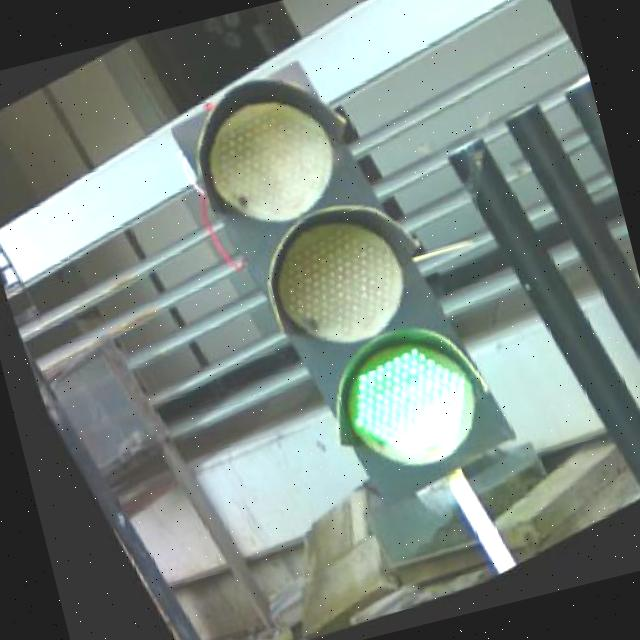green_light: (152, 29, 522, 546)
